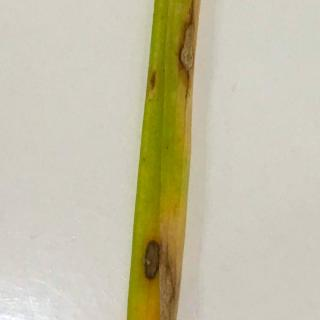Blast: (144, 221, 176, 315), (171, 15, 199, 93)
